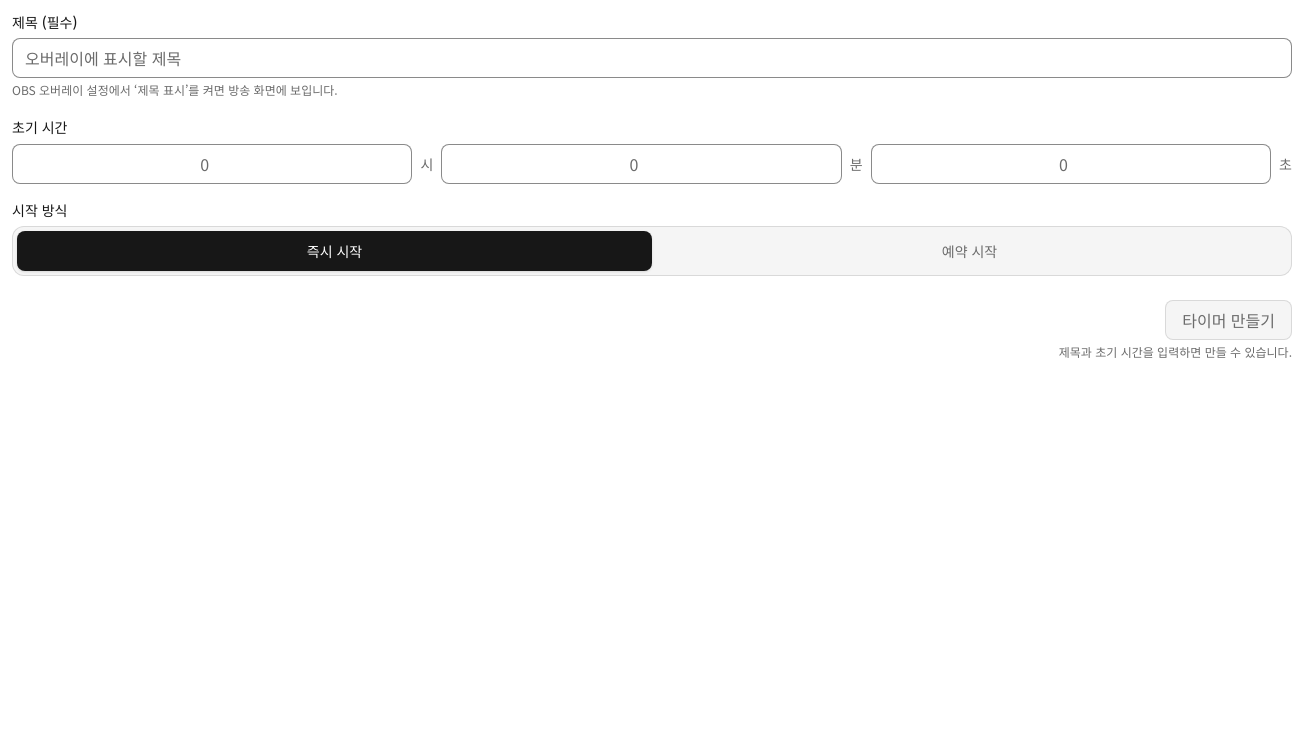
Test: 입력 경계 토큰을 쓰는 호출부 › 새 타이머 예약 날짜 select
Click the radio button labelled "예약 시작" at {"x": 970, "y": 251}, box [942,241,997,261]
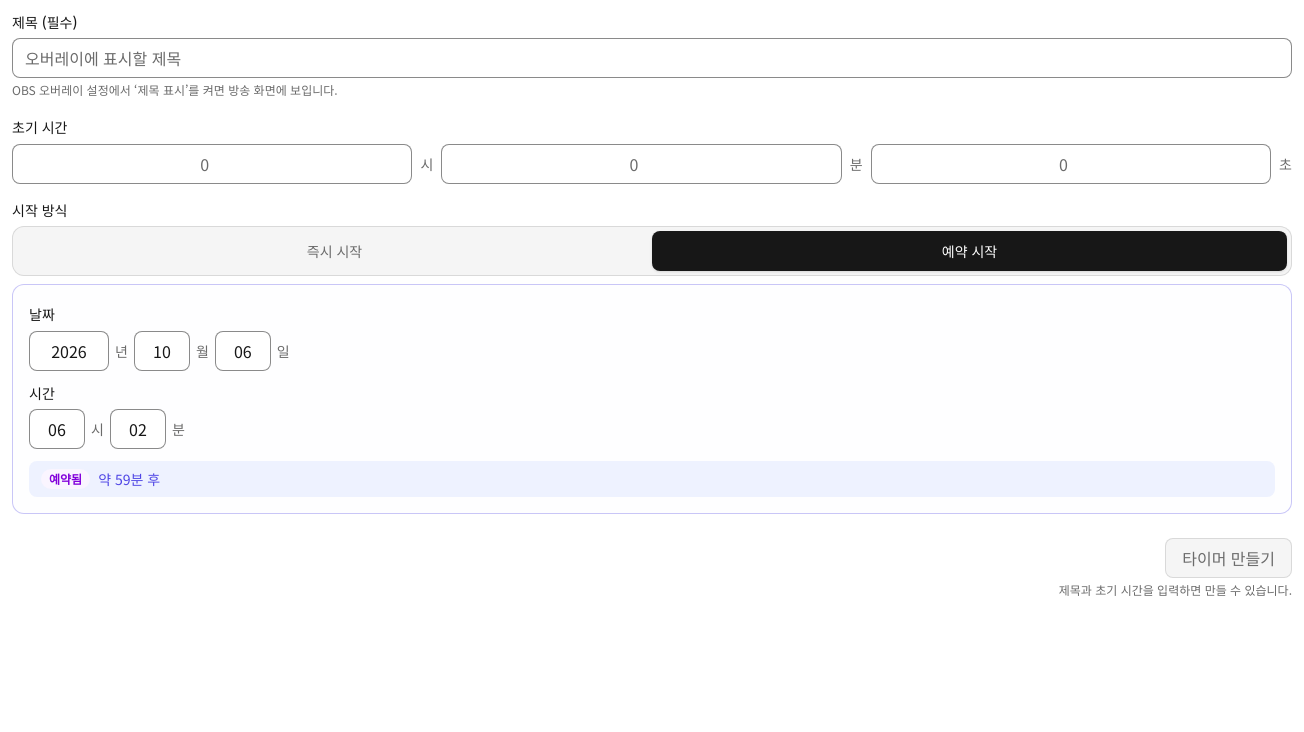
Check: the dropdown named "연도" is shown, box [29,331,109,371]
